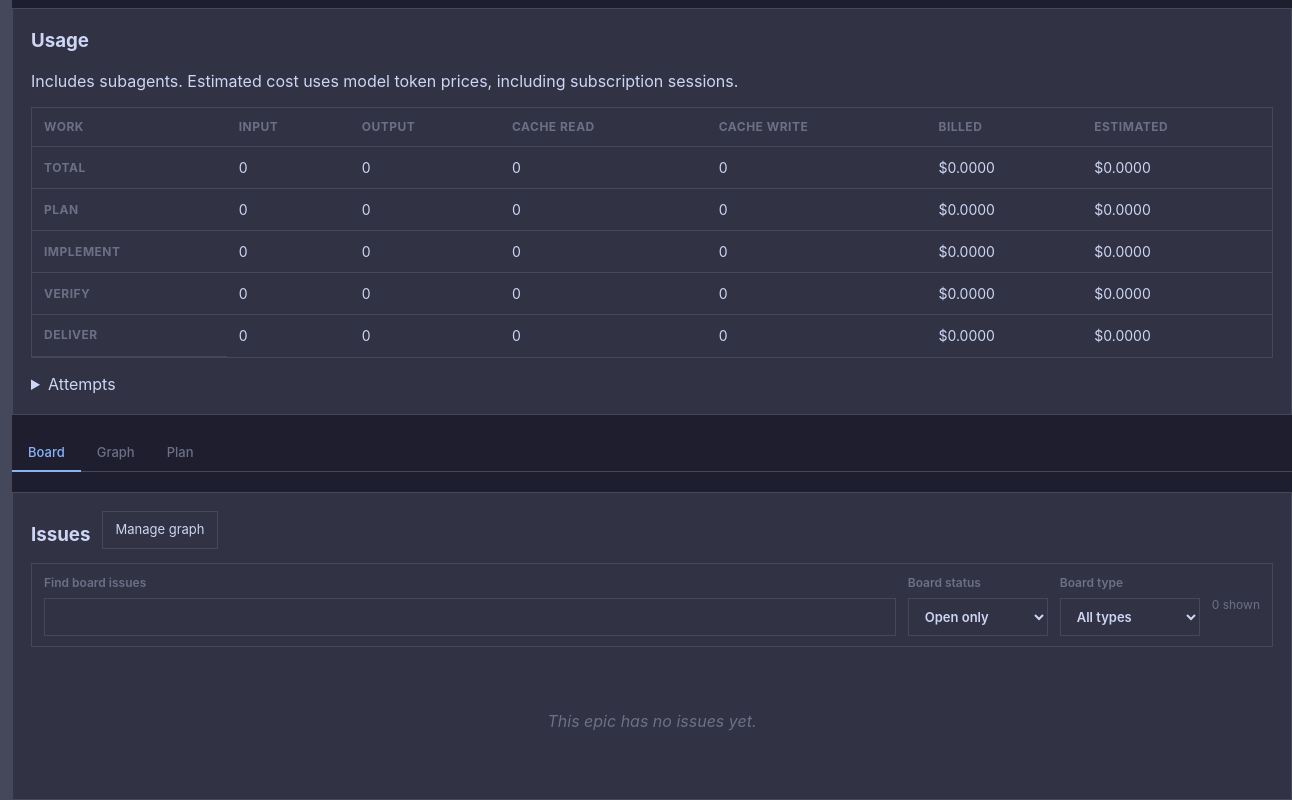
Factory interactions › shows the linked planning session on epic detail
(page scrolled)
Click the tab "Plan": (180, 453) [151,435,210,472]
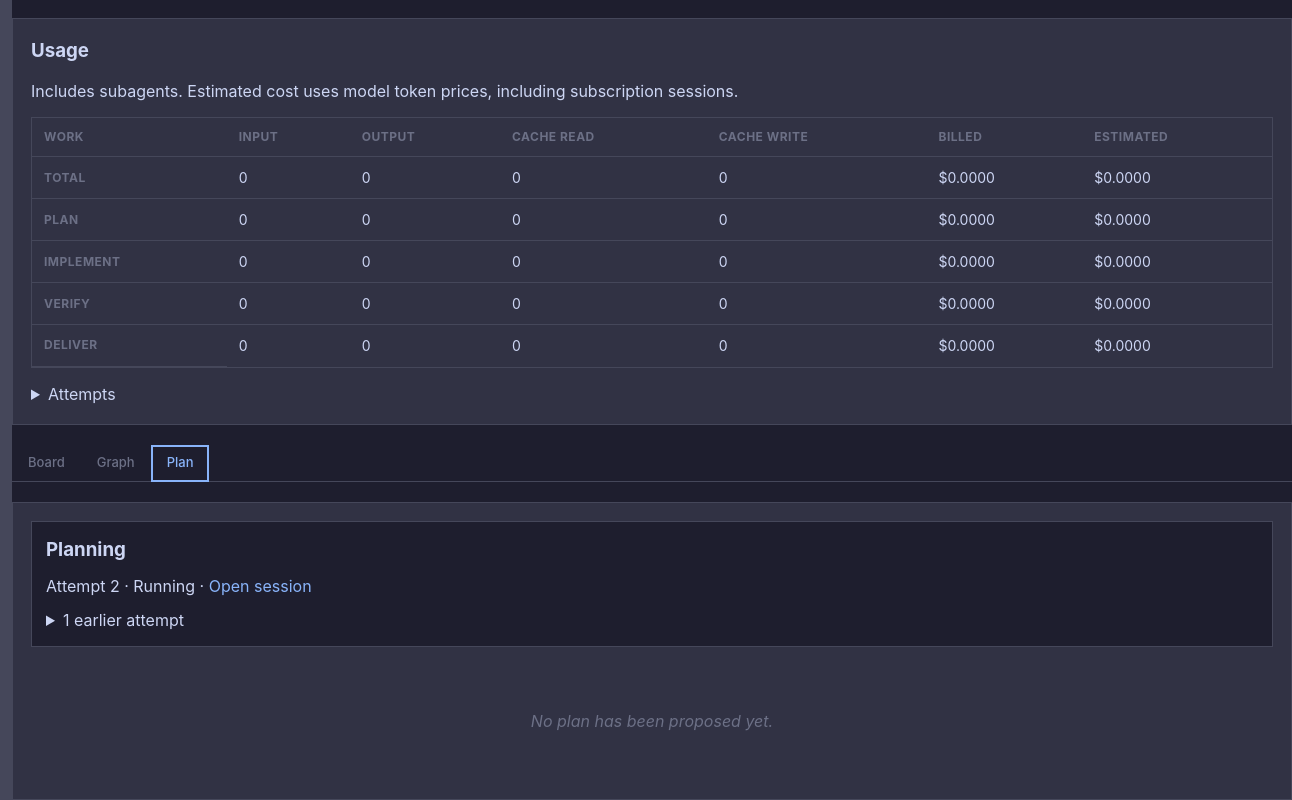
Expected: the element "Planning" does not show "attempt-1", [31,521,1273,647]
Result: the element "Planning" shows "Attempt 2 · Running" at [31,521,1273,647]
Result: the element "Planning" shows "1 earlier attempt" at [31,521,1273,647]
